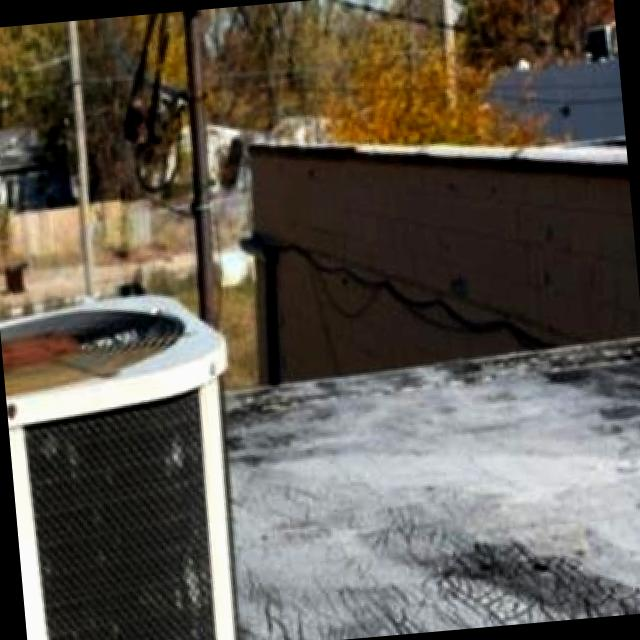SPLIT-SYSTEM: (0, 292, 256, 640)
